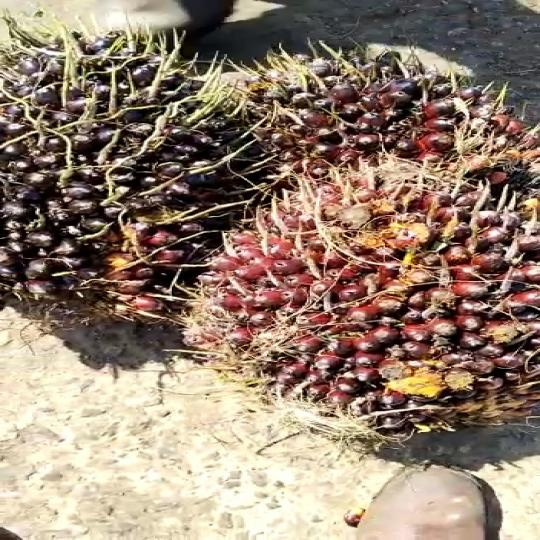kurang masak: (207, 142, 540, 461), (0, 10, 295, 325)
